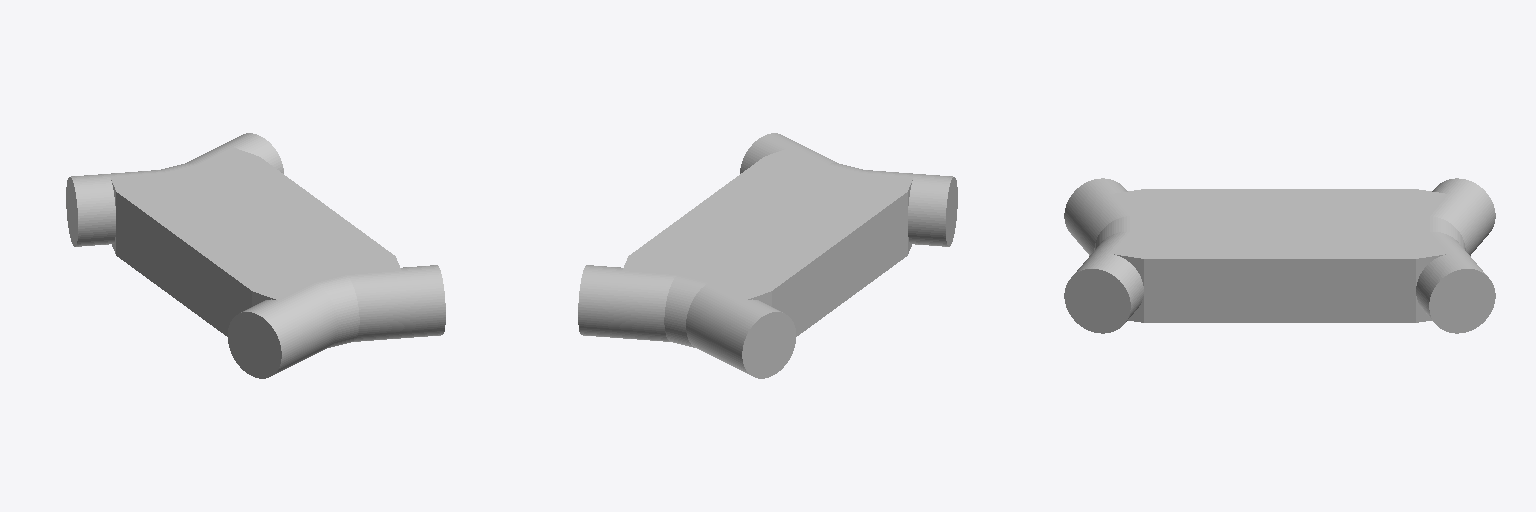
Rendered from soft_body_simplified_20_deg.obj.
The picture shows the model from 3 angles: view 1: azimuth 30°, elevation 25°; view 2: azimuth 150°, elevation 25°; view 3: azimuth 270°, elevation 25°; orthographic projection.
Parts seen in each view (by area): view 1: Solid1; view 2: Solid1; view 3: Solid1.
Part boxes in pixels (x1,y1,x2,y2): Solid1: (66, 133, 445, 378); Solid1: (578, 133, 957, 378); Solid1: (1064, 178, 1495, 333).
Size of the model in its own units: 215 by 64 by 391.